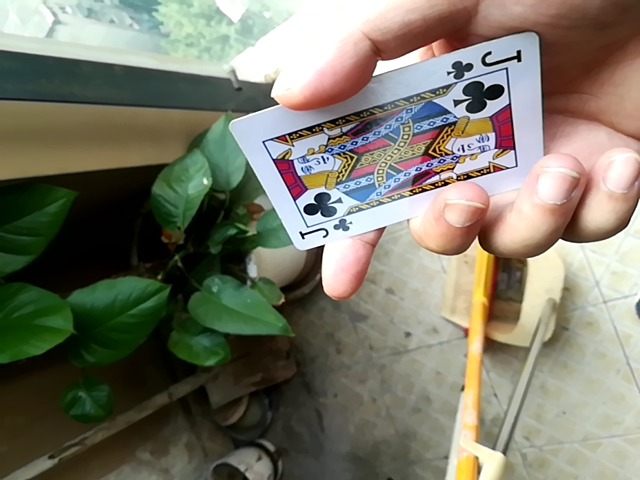mh j: (217, 32, 549, 270)
